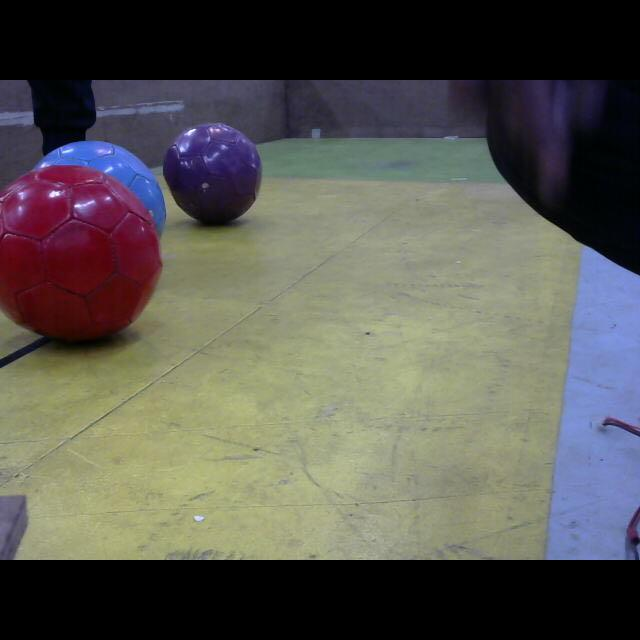B: (18, 138, 168, 278)
P: (163, 122, 263, 224)
R: (0, 166, 162, 344)
